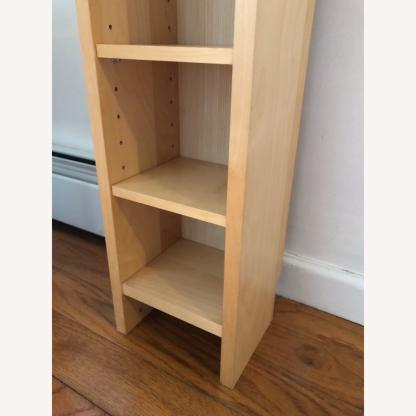lamp: (73, 0, 317, 391)
